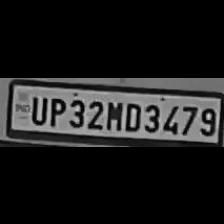2: (86, 96, 104, 128)
3: (65, 94, 84, 128), (141, 99, 159, 131)
4: (160, 100, 180, 132)
7: (178, 101, 196, 133)
9: (198, 102, 216, 136)
D: (122, 98, 140, 130)
M: (104, 97, 122, 129)
P: (46, 93, 64, 125)
U: (26, 92, 48, 124)
